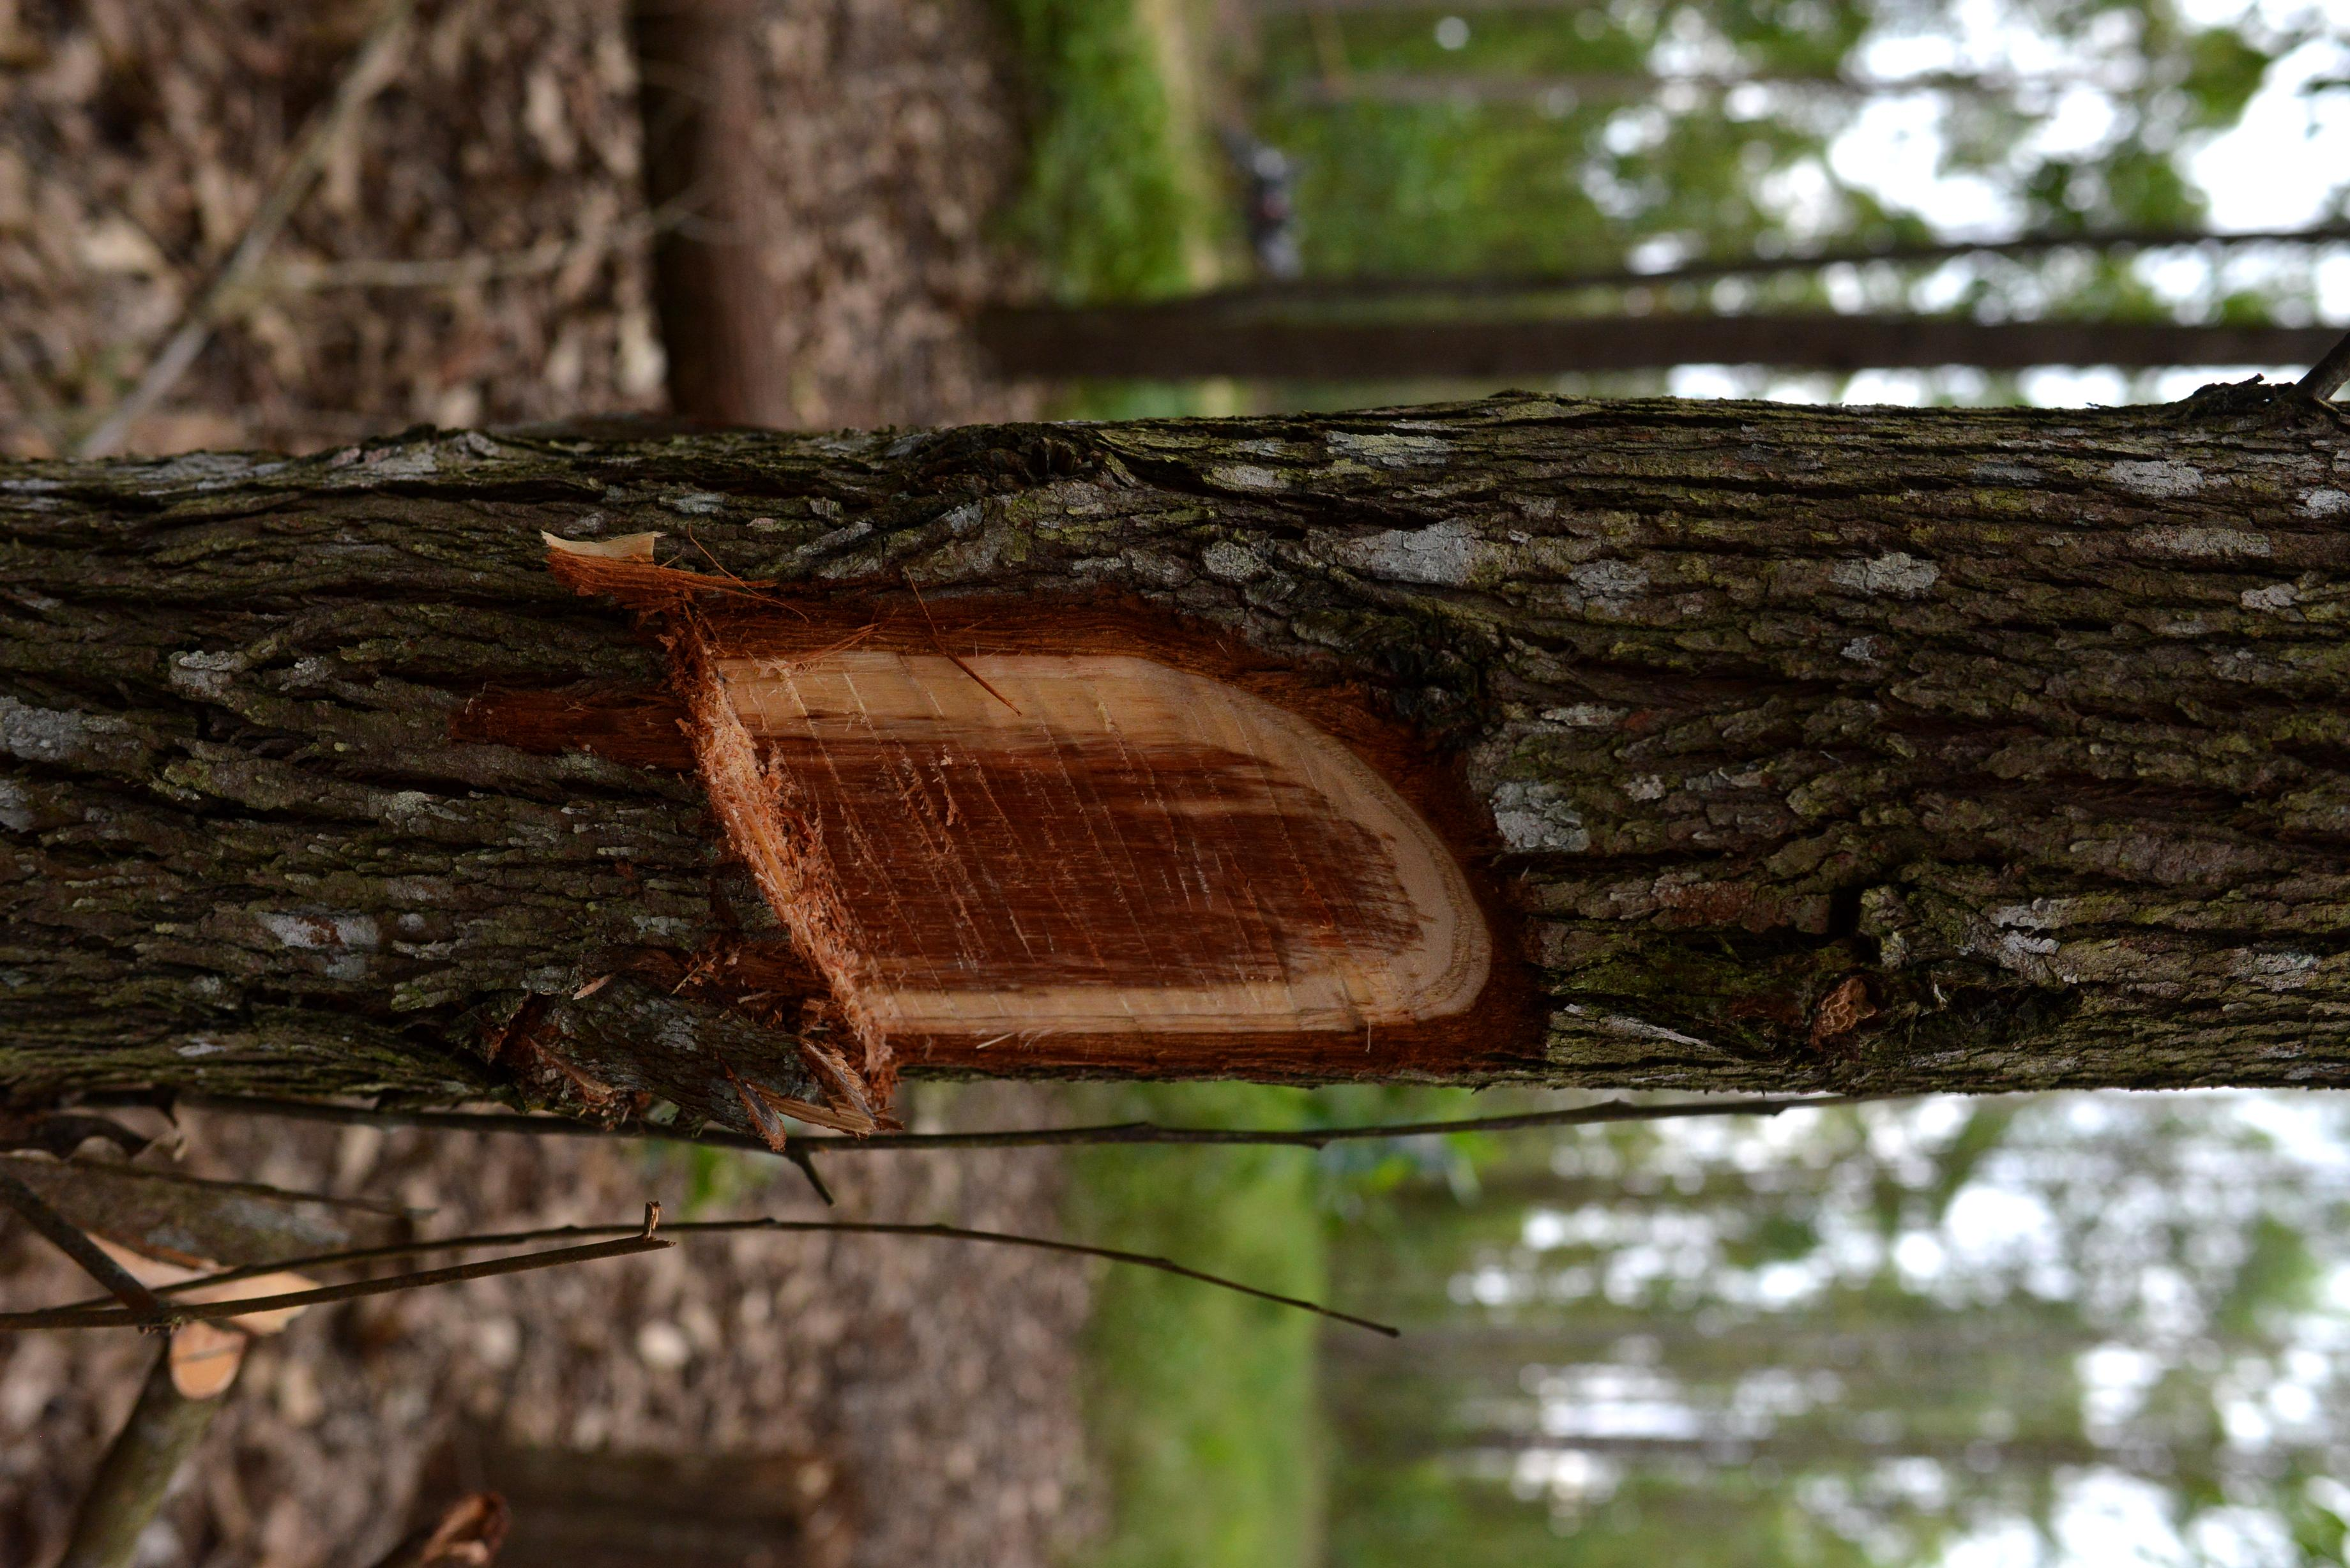Ceratocystis - Inner: (652, 578, 1549, 1133)
